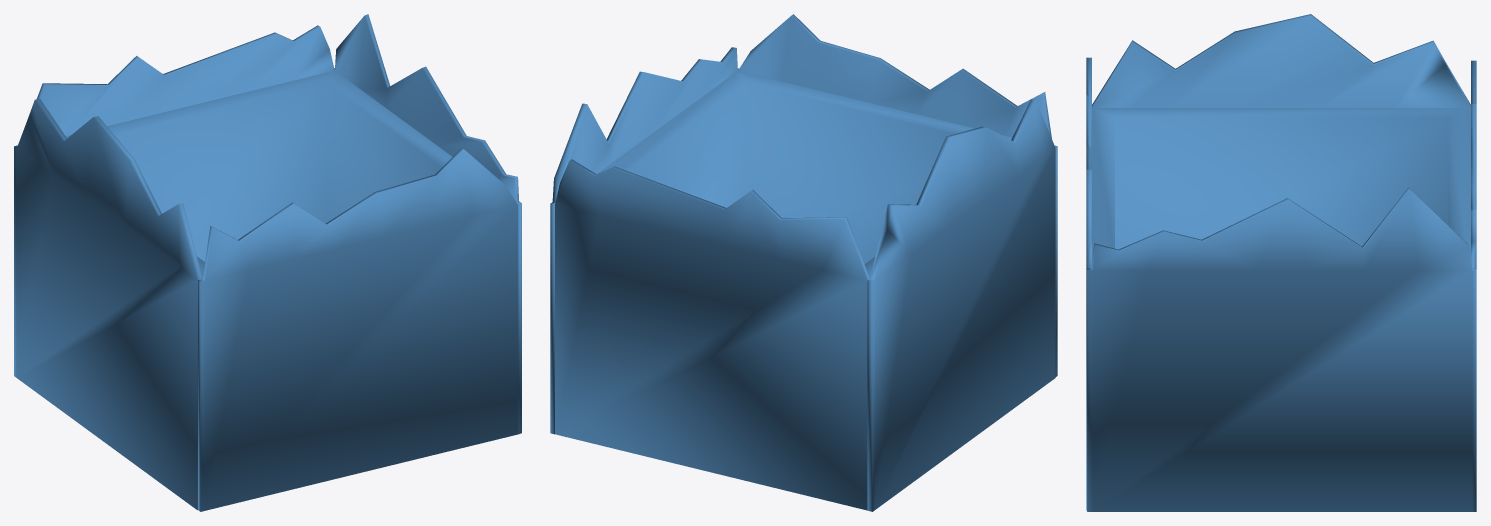
The model's file is StartBox.fbx.
3 renders of one model, left to right at view 1: azimuth 30°, elevation 25°; view 2: azimuth 150°, elevation 25°; view 3: azimuth 270°, elevation 25°, orthographic. The views are drawn at different scales.
Parts seen in each view (by area): view 1: StartBox:Box001; view 2: StartBox:Box001; view 3: StartBox:Box001.
Part boxes in pixels (bbox=[...]): StartBox:Box001: bbox=[14, 14, 521, 511]; StartBox:Box001: bbox=[550, 14, 1057, 511]; StartBox:Box001: bbox=[1086, 14, 1476, 511].
Size of the model in its own units: 37.7 by 35.37 by 37.64.
